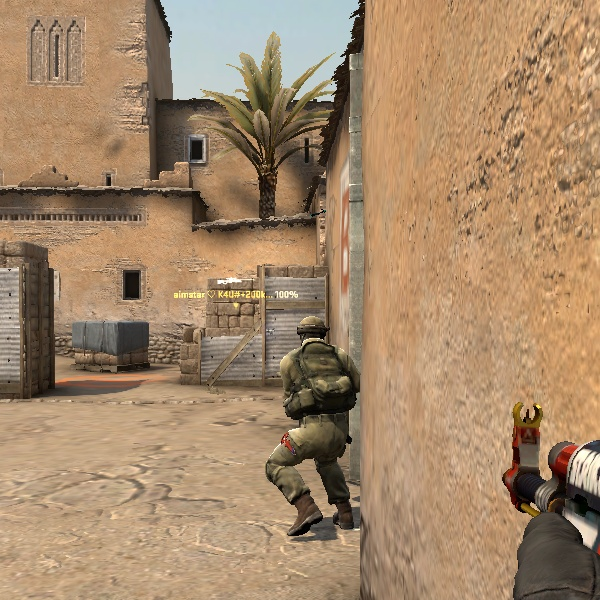ct_body: (246, 311, 357, 534)
ct_head: (290, 315, 333, 360)
